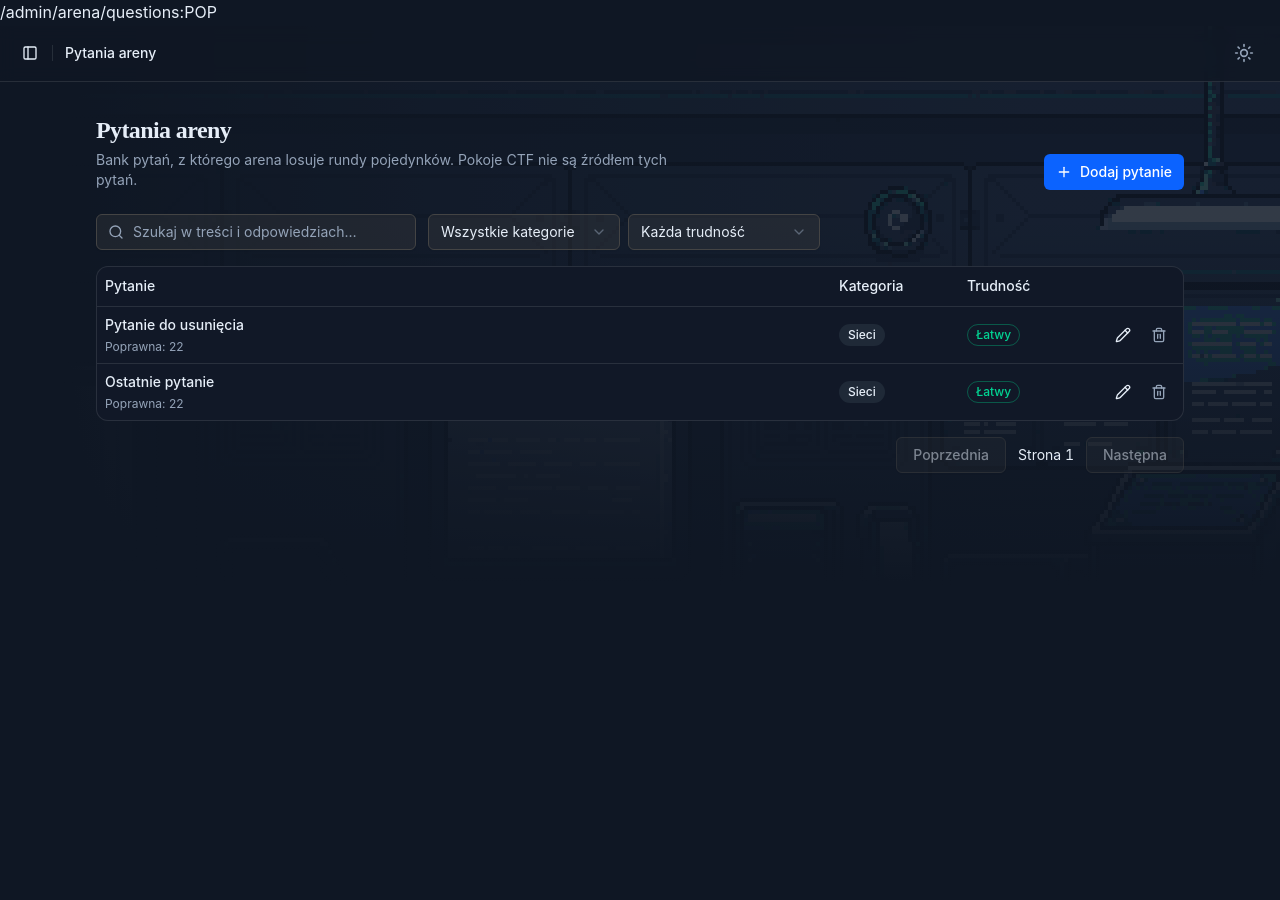
Test: arena questions page › deletes a question after confirmation and reports server refusals
The image size is (1280, 900).
What coordinates should you click on to do the following:
click the button named "Usuń pytanie: Pytanie do usunięcia"
I would click on:
 (1159, 335)
Its box is [1143,319,1175,351].
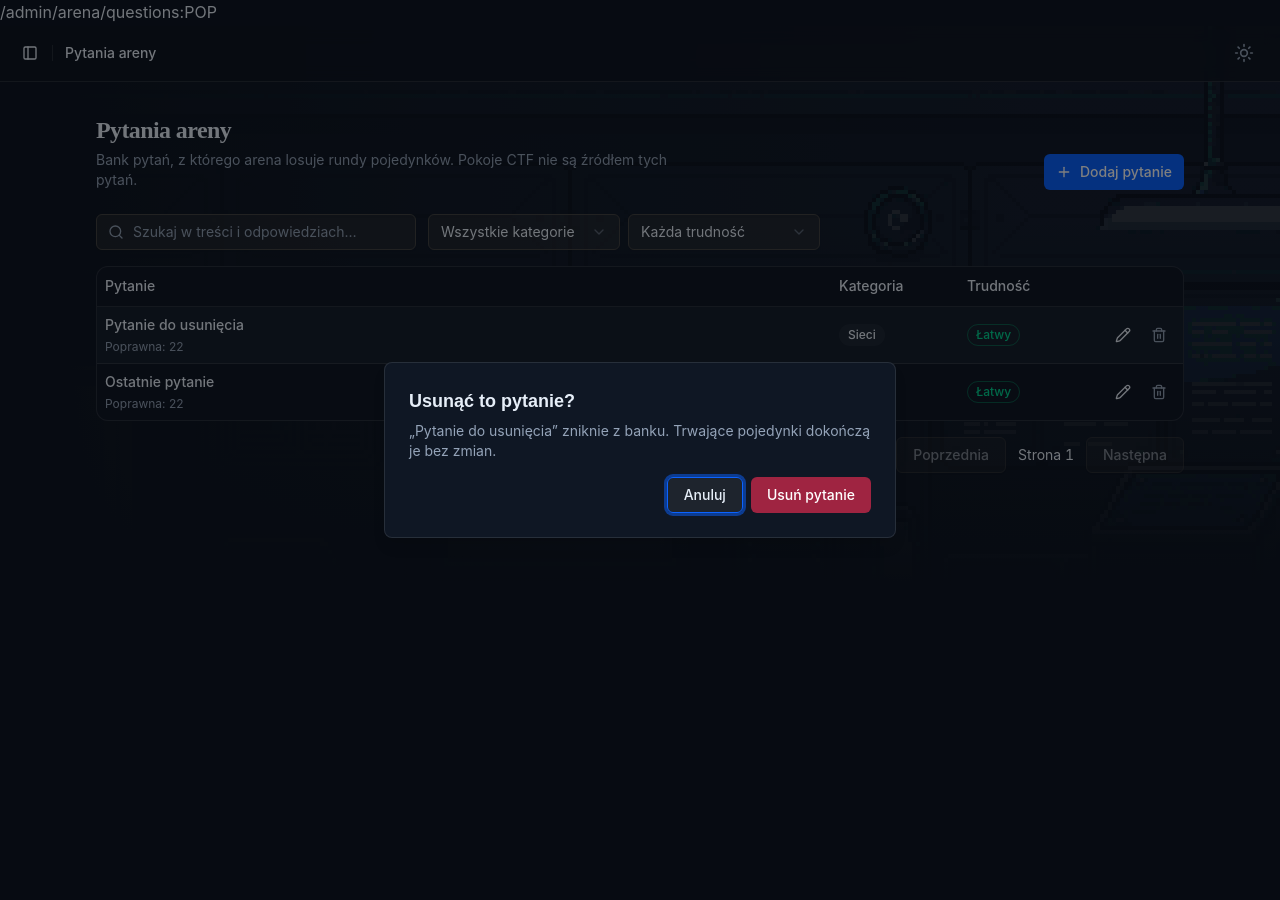
What coordinates should you click on to do the following:
click the button "Usuń pytanie"
I would click on:
 (811, 495)
Its box is [751,477,871,513].
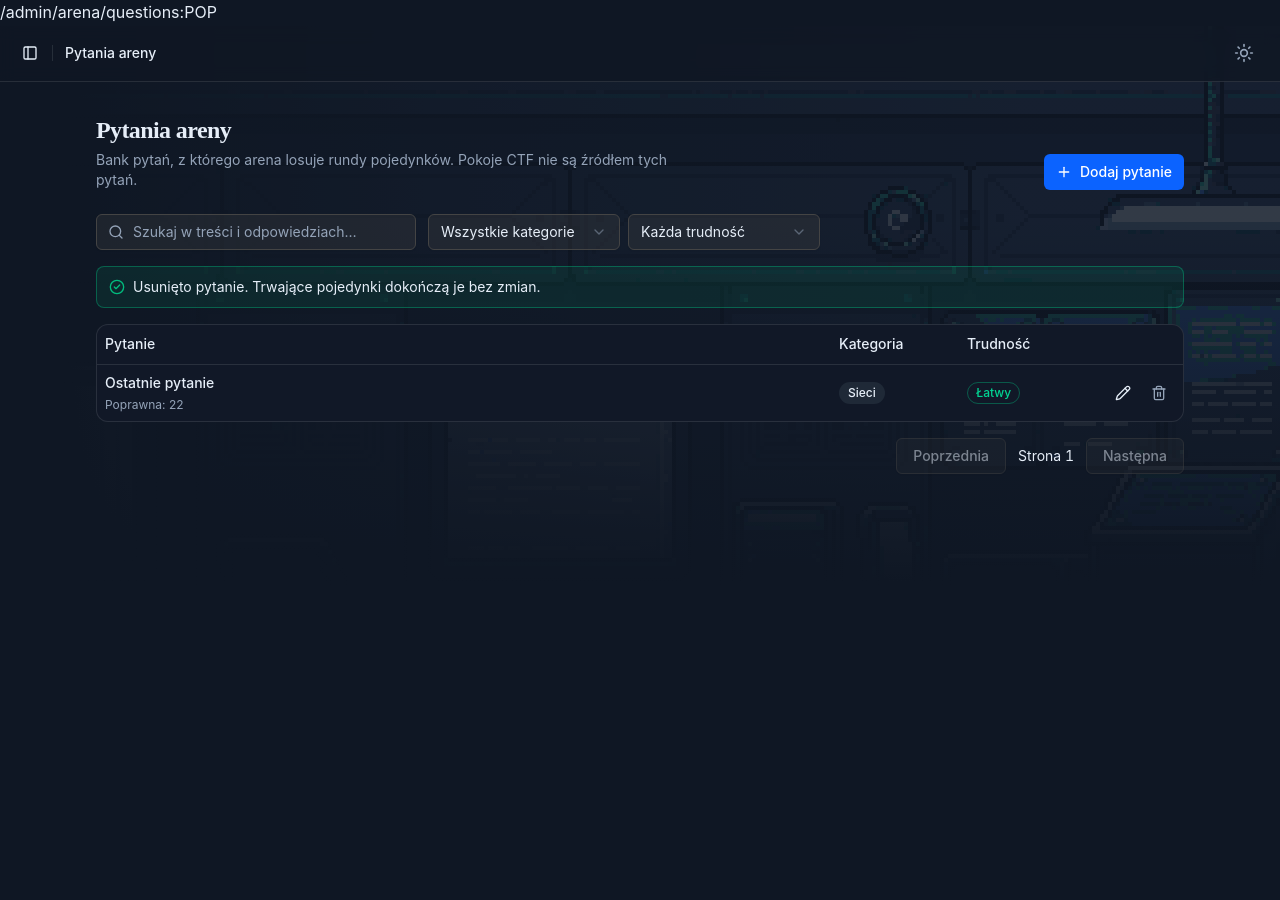
Result: the text "Usunięto pytanie. Trwające pojedynki dokończą je bez zmian." is shown at [133,277,540,297]
Result: the text "Pytanie do usunięcia" is gone
What coordinates should you click on to do the following:
click the button named "Usuń pytanie: Ostatnie pytanie"
I would click on:
 (1159, 393)
Its box is [1143,377,1175,409].
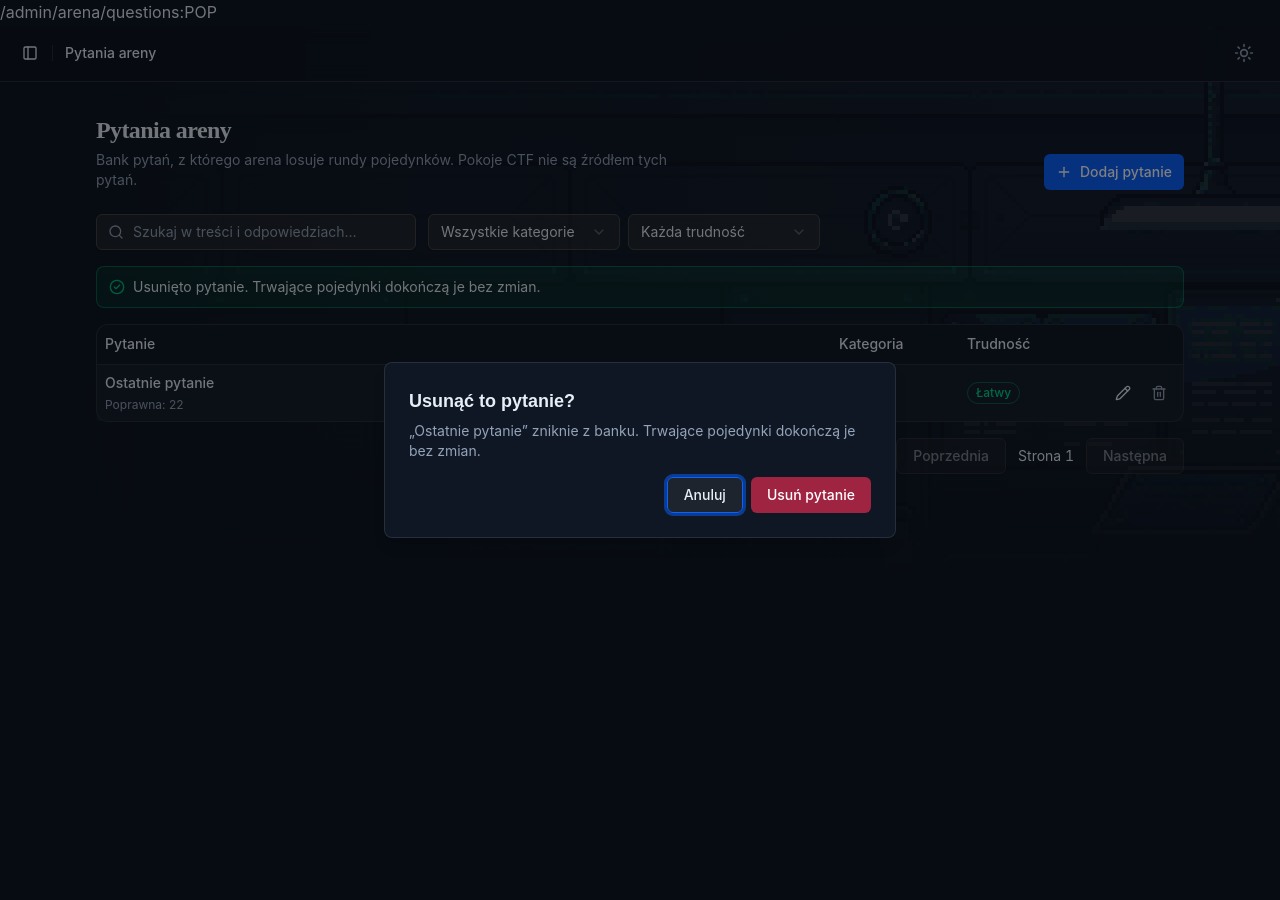
What coordinates should you click on to do the following:
click the button "Usuń pytanie"
I would click on:
 (811, 495)
Its box is [751,477,871,513].
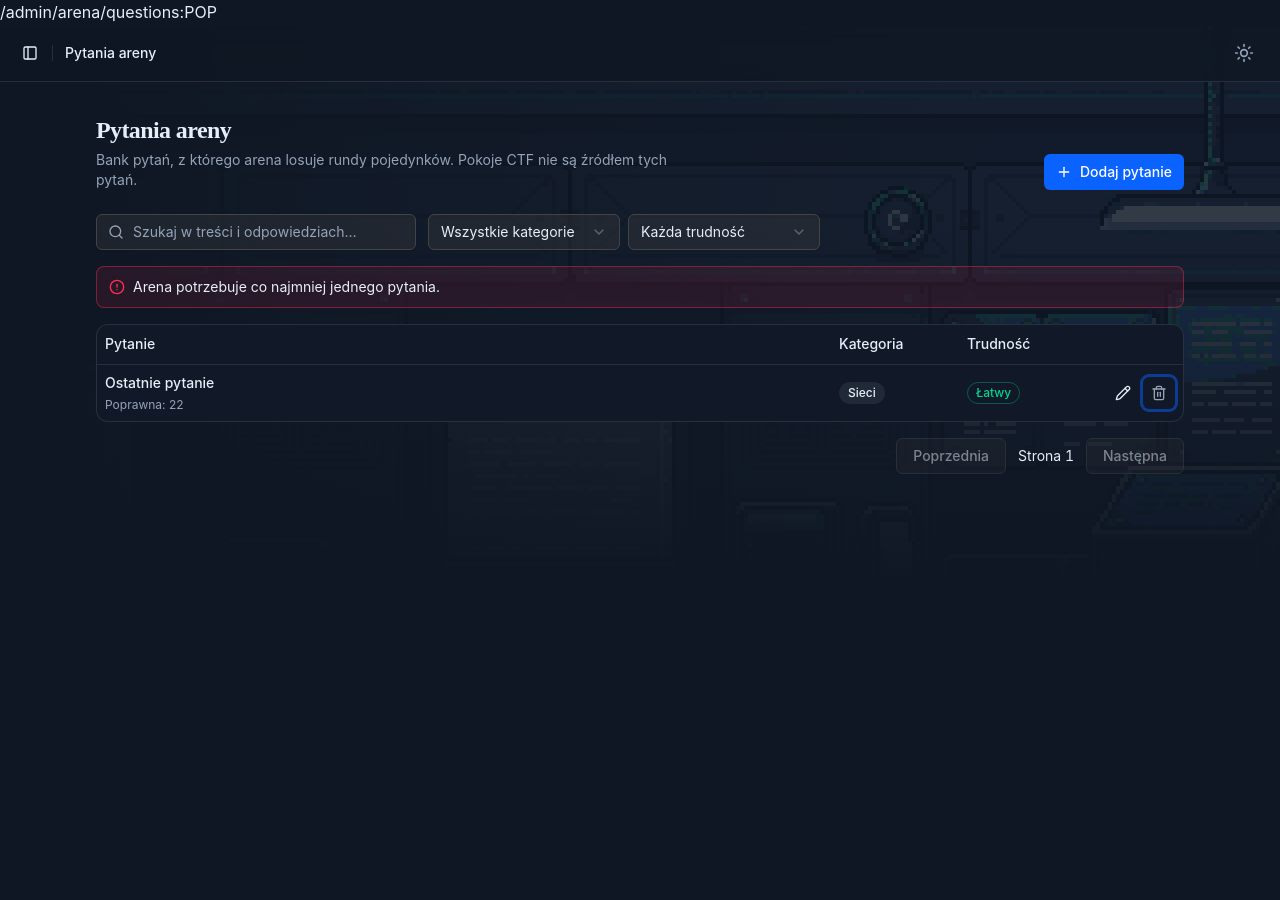
Expected: the text "Ostatnie pytanie" is shown, [105,374,214,391]
Result: the text "Arena potrzebuje co najmniej jednego pytania." is shown at [133,277,440,297]
